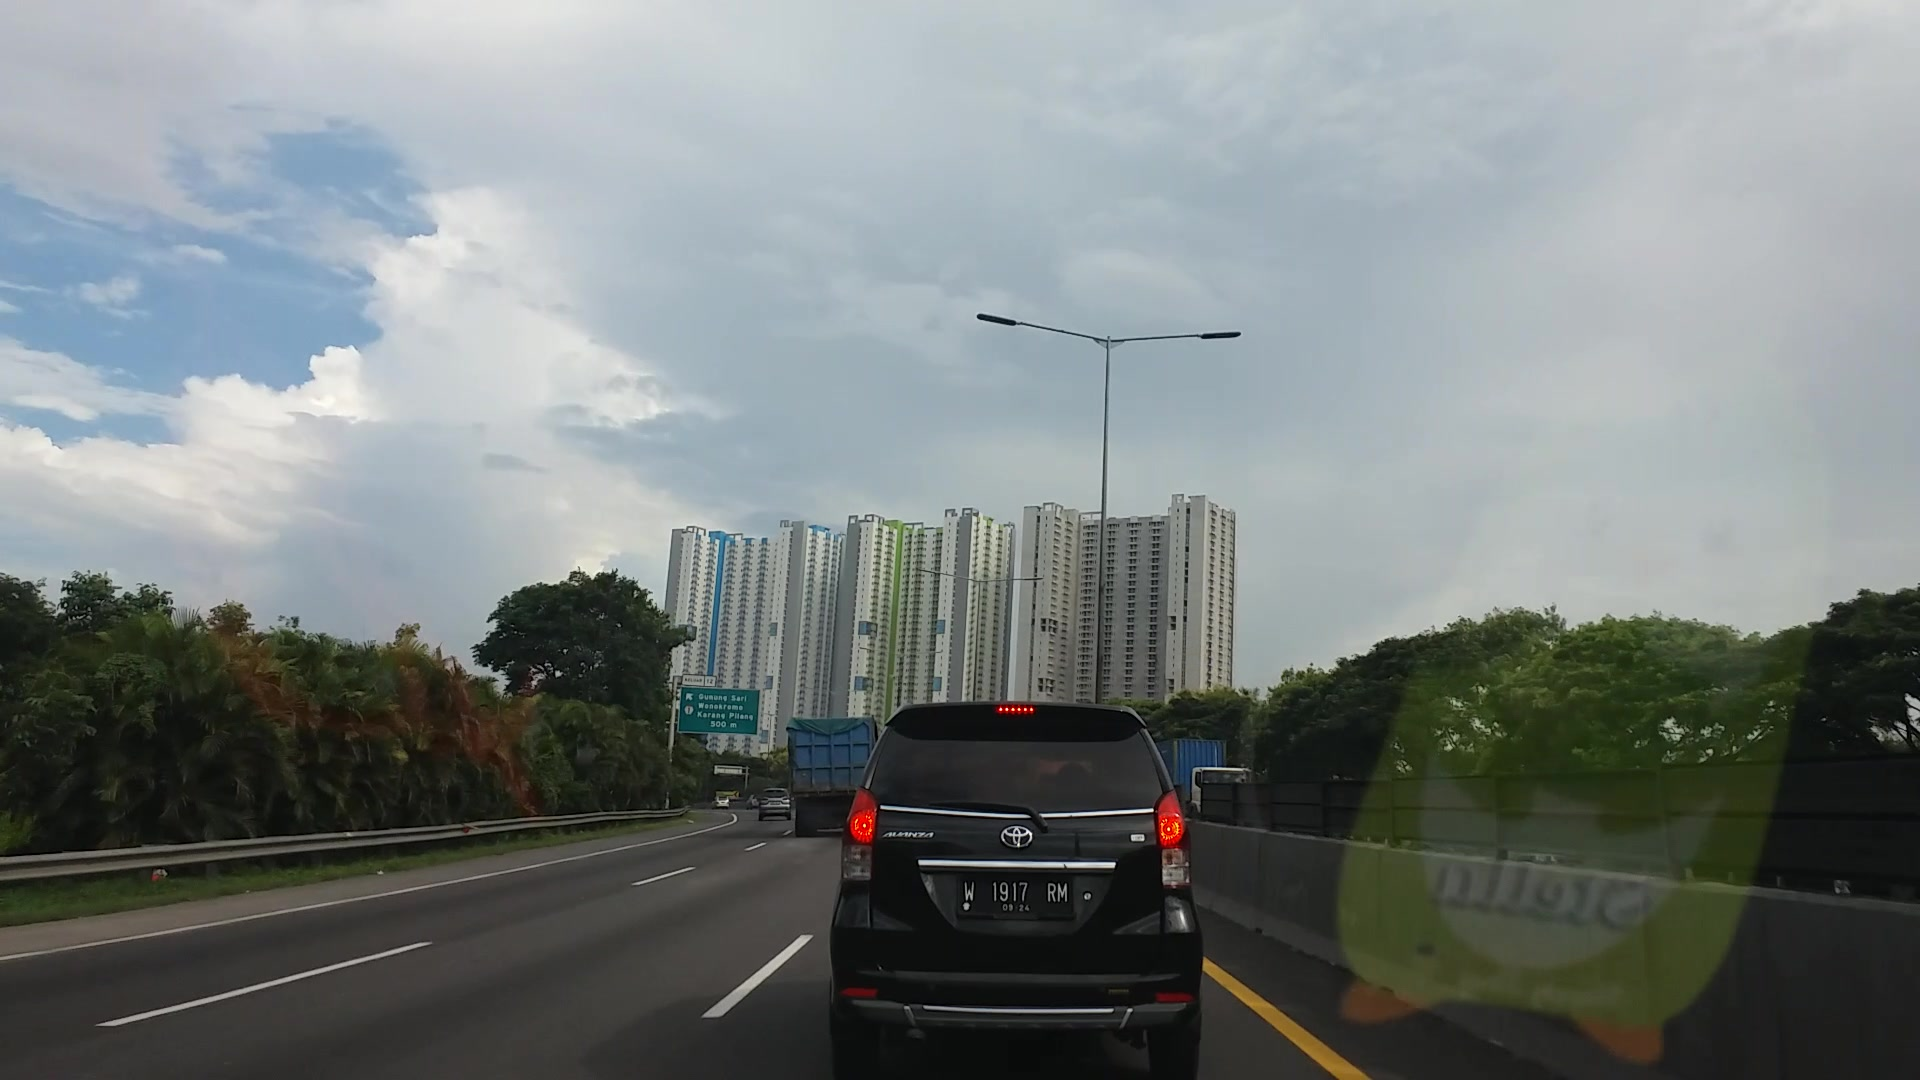plate_positive: (957, 876, 1072, 916)
